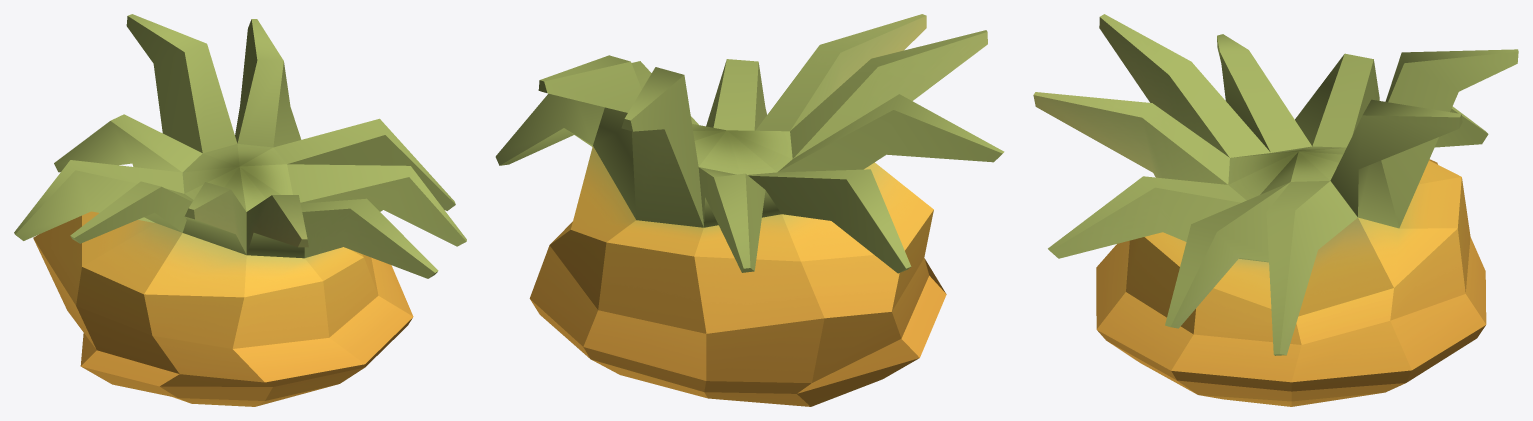
File: pineapple_rotted2.fbx
3 renders of one model, left to right at view 1: azimuth 30°, elevation 25°; view 2: azimuth 150°, elevation 25°; view 3: azimuth 270°, elevation 25°, orthographic. The views are drawn at different scales.
Parts seen in each view (by area): view 1: rotted2; view 2: rotted2; view 3: rotted2.
Part boxes in pixels (x1=…): rotted2: x1=14, y1=14, x2=466, y2=406; rotted2: x1=495, y1=14, x2=1004, y2=406; rotted2: x1=1033, y1=14, x2=1518, y2=406.
Bounding box in the file's own units: 20.78 × 14.02 × 18.91.
